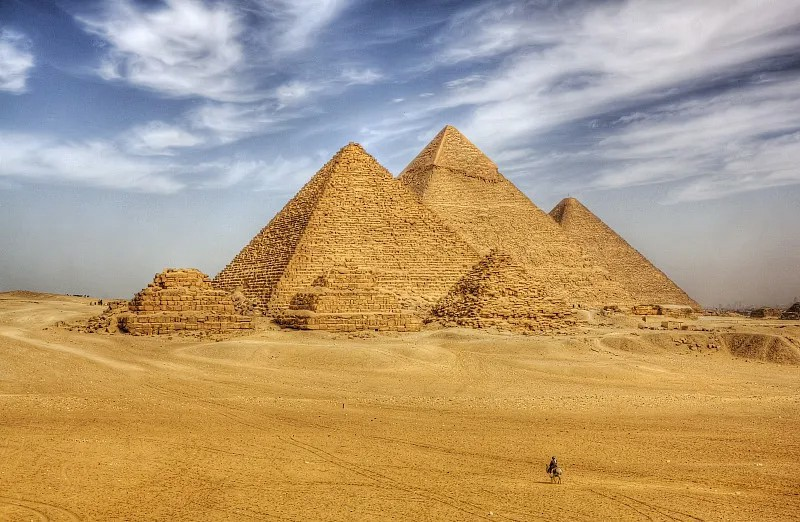Pyramid: (213, 142, 482, 318), (397, 126, 645, 313), (551, 198, 705, 316), (428, 248, 577, 333), (272, 260, 422, 333), (106, 268, 254, 336)
